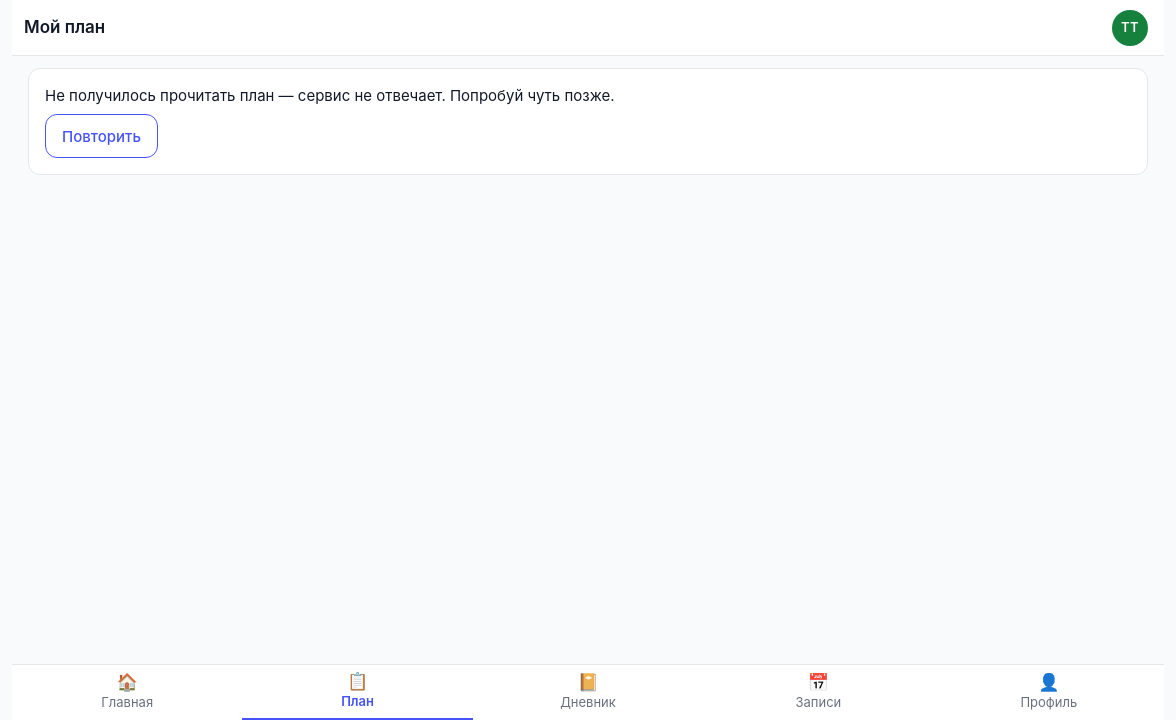
Test: «Мой план»: сохранённый план нового механизма › «Повторить» перечитывает и показывает сохранённый план
Click the button "Повторить" at (102, 136), box [45,114,158,158]
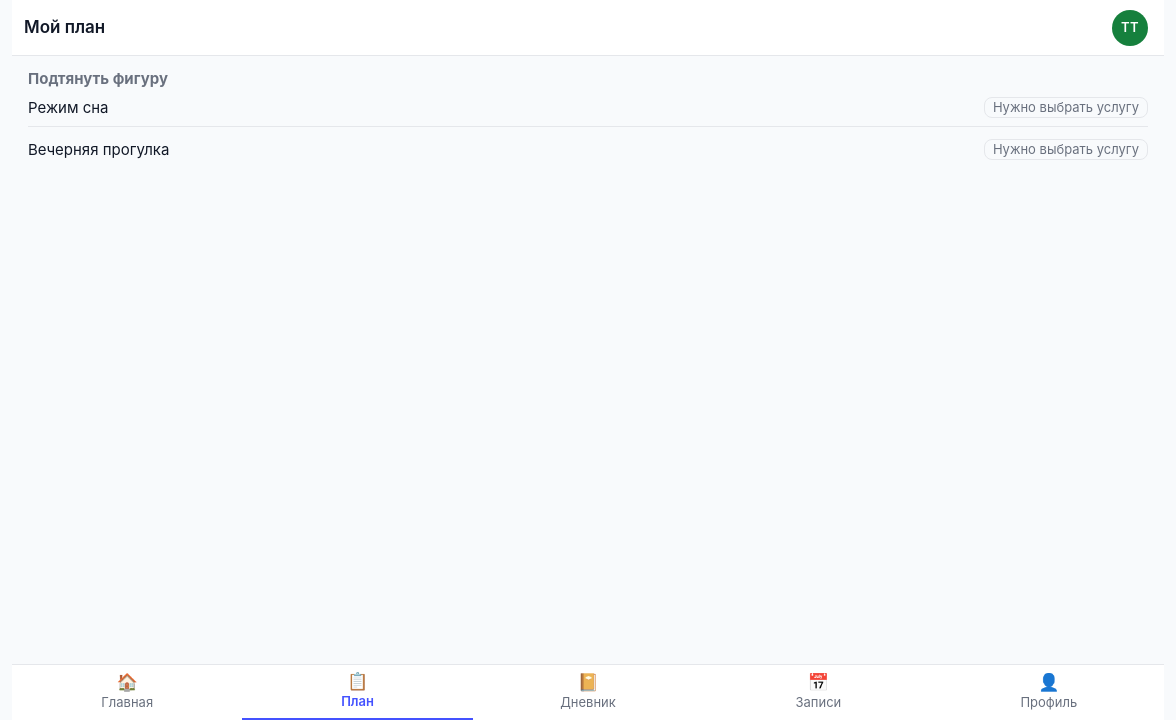
Check: the element with test id "plan-saved-card" is shown, box [28,68,1148,168]
